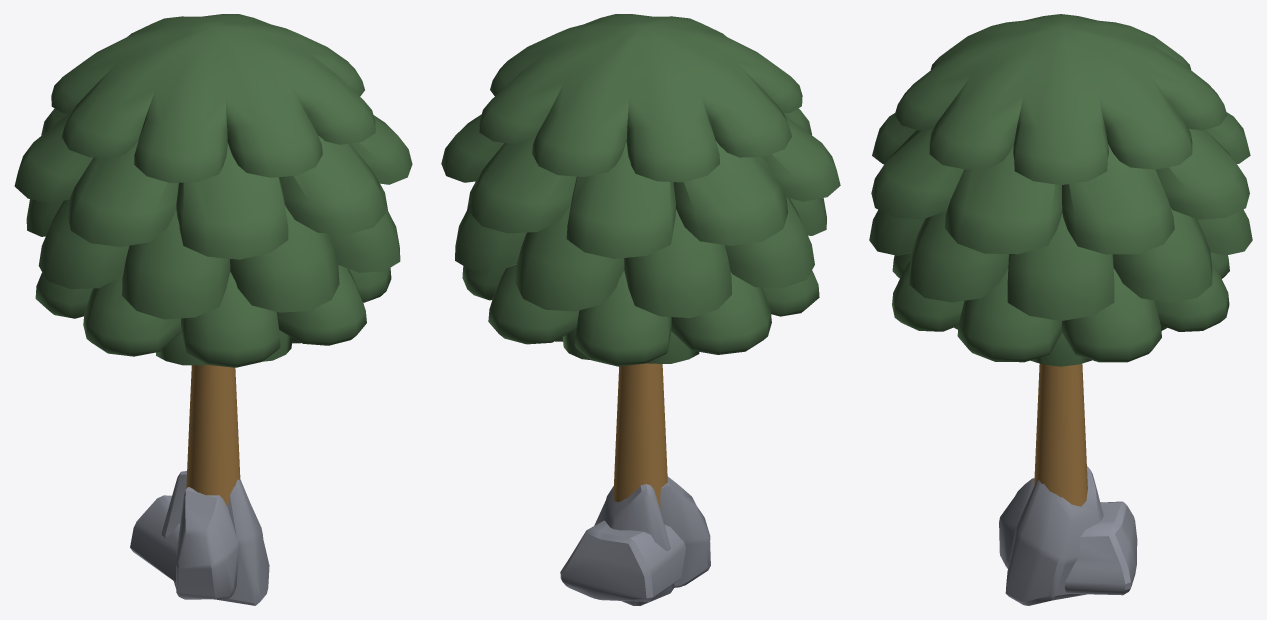
The model's file is tree3.glb.
The picture shows the model from 3 angles, left to right: view 1: azimuth 30°, elevation 25°; view 2: azimuth 150°, elevation 25°; view 3: azimuth 270°, elevation 25°; orthographic projection.
Visible parts, largest first — view 1: Tree, Rock_2, Rock_1; view 2: Tree, Rock_1, Rock_2; view 3: Tree, Rock_2, Rock_1.
Boxes of the visible parts, left/top/right/bottom form: Tree: left=14, top=14, right=412, bottom=507; Rock_2: left=161, top=471, right=269, bottom=605; Rock_1: left=130, top=495, right=180, bottom=582; Tree: left=441, top=14, right=840, bottom=509; Rock_1: left=560, top=520, right=685, bottom=601; Rock_2: left=594, top=476, right=710, bottom=605; Tree: left=869, top=14, right=1252, bottom=506; Rock_2: left=999, top=466, right=1103, bottom=605; Rock_1: left=1064, top=501, right=1137, bottom=595.
Bounding box in the file's own units: 5.53 × 9.05 × 5.55.
